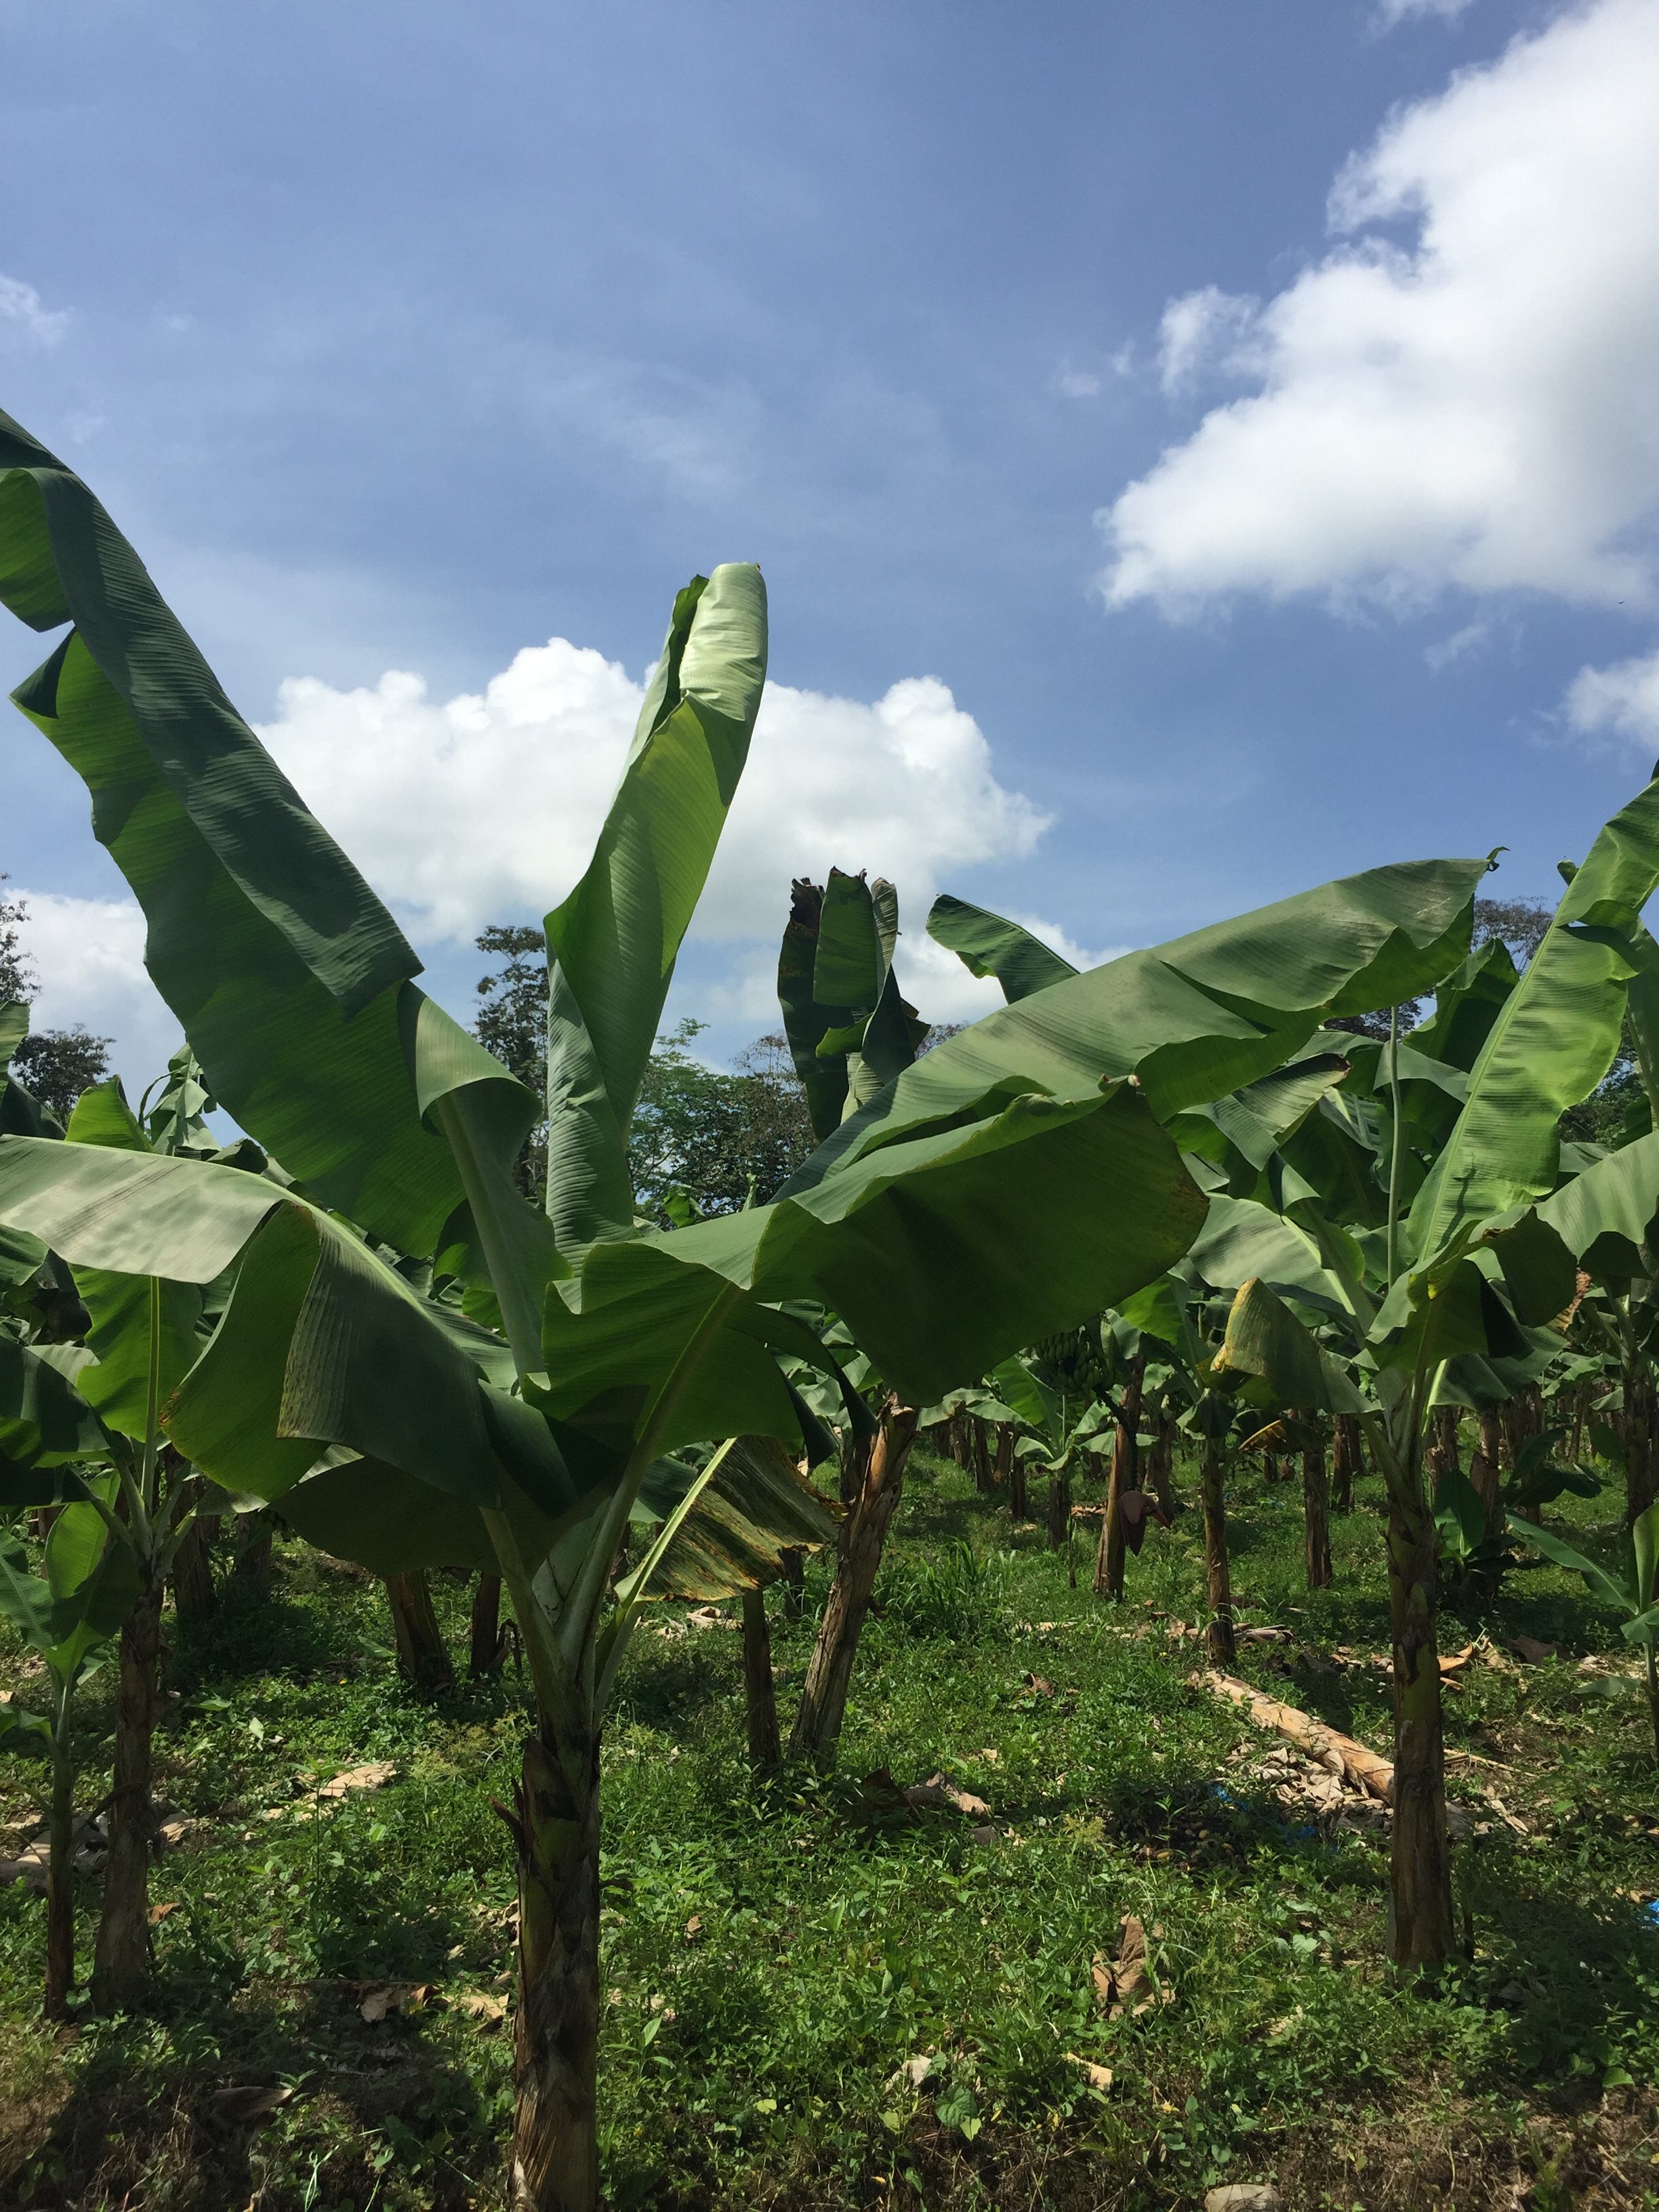candleleafs: (1391, 1007, 1399, 1285)
